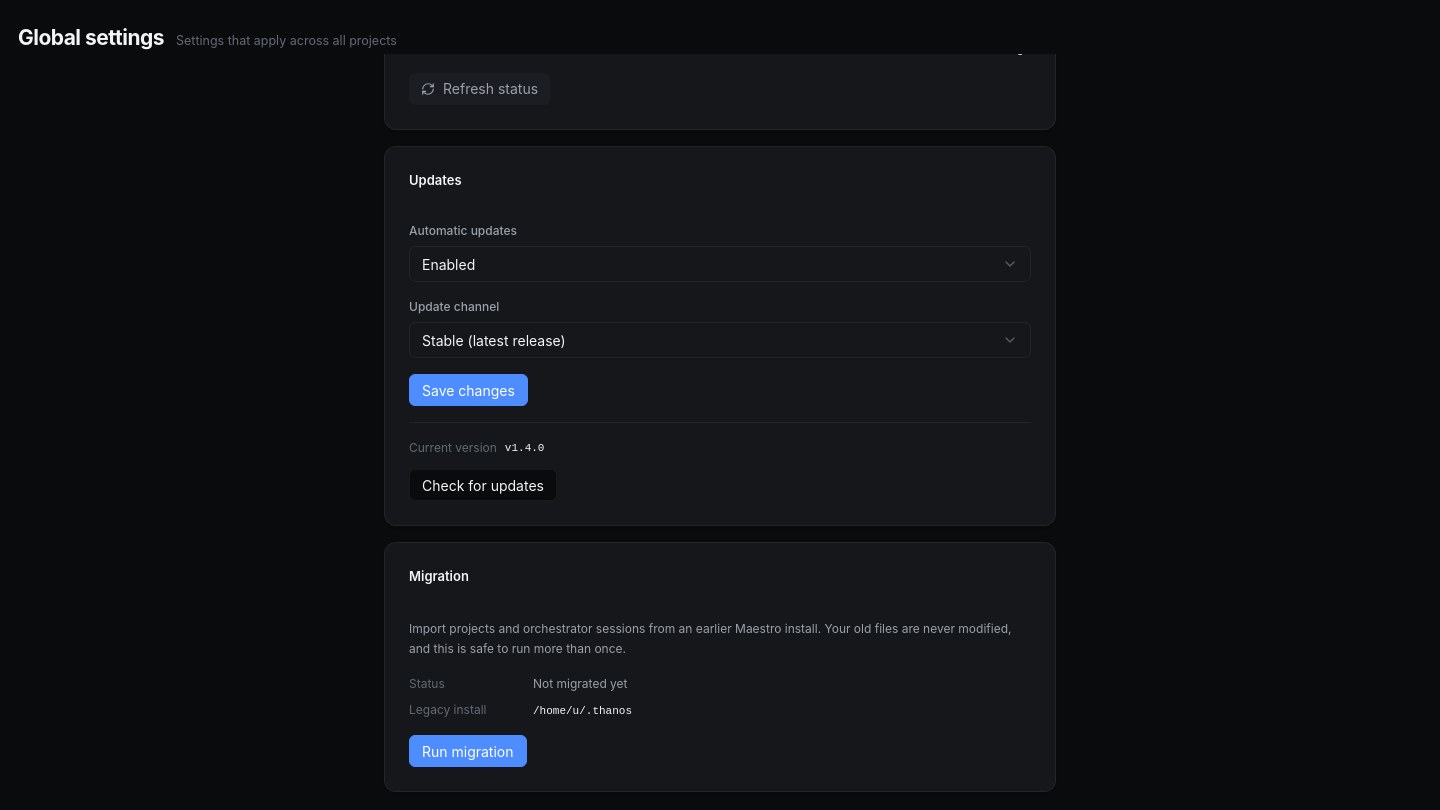
Scenario: GlobalSettingsForm › Run migration imports and marks completed
(page scrolled)
Click the button "Run migration" at (468, 751), box x1=409 y1=735 x2=526 y2=767
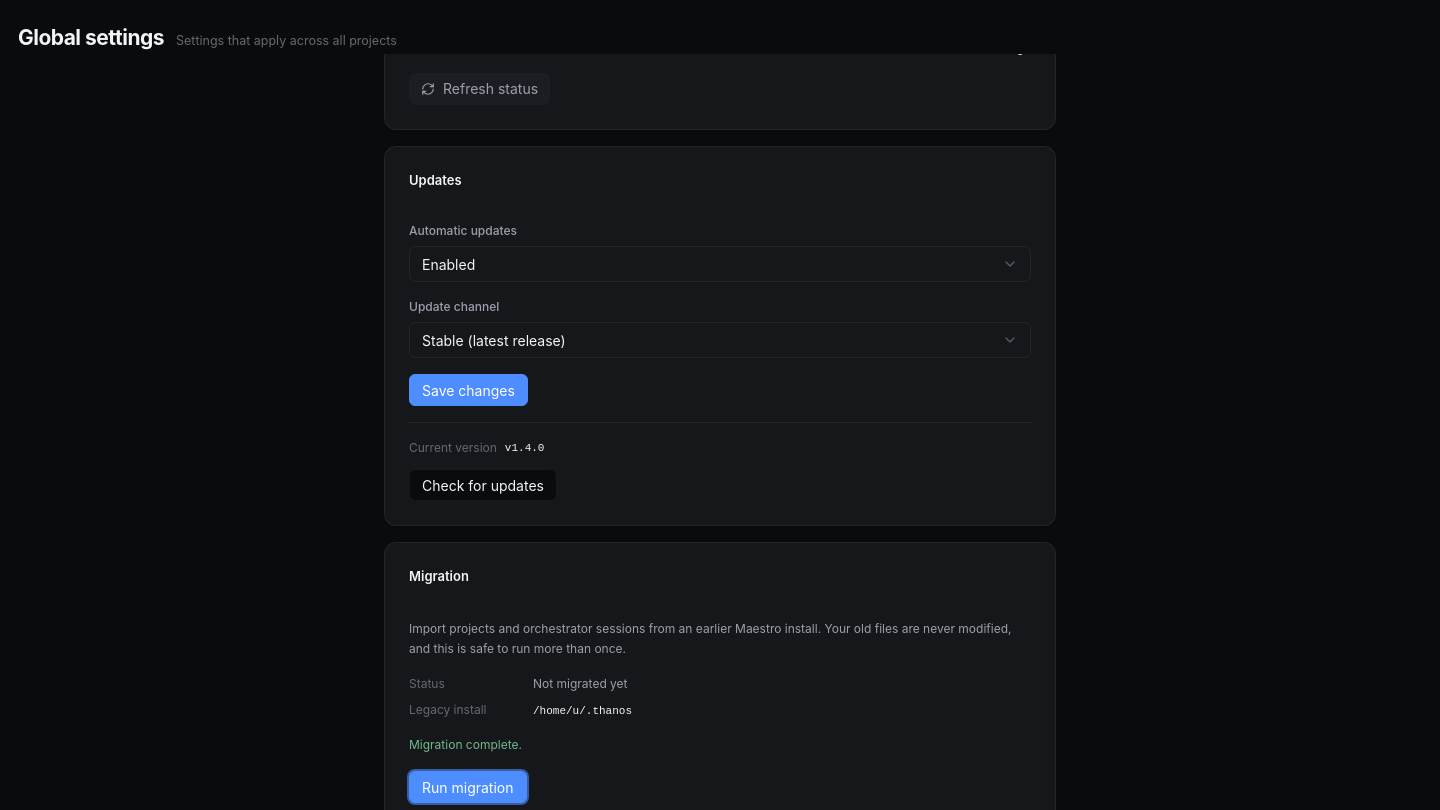
Now the text "Migration complete." is shown, box x1=409 y1=737 x2=522 y2=752
